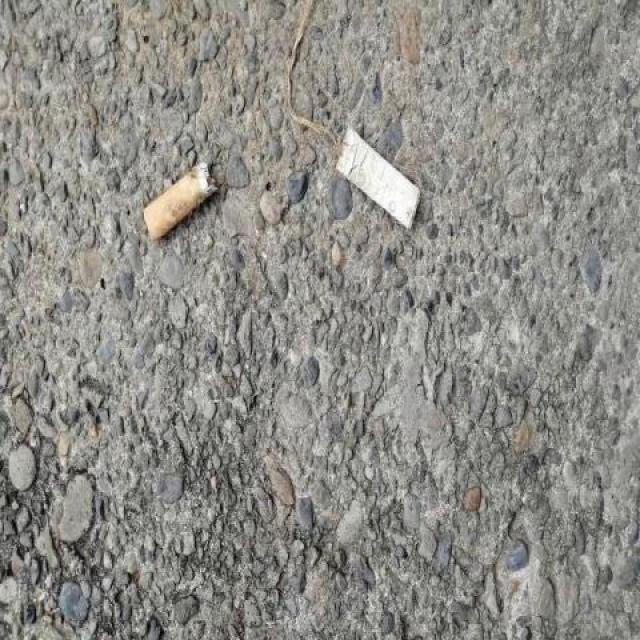non-organic waste: (335, 123, 425, 232), (136, 157, 221, 250)
